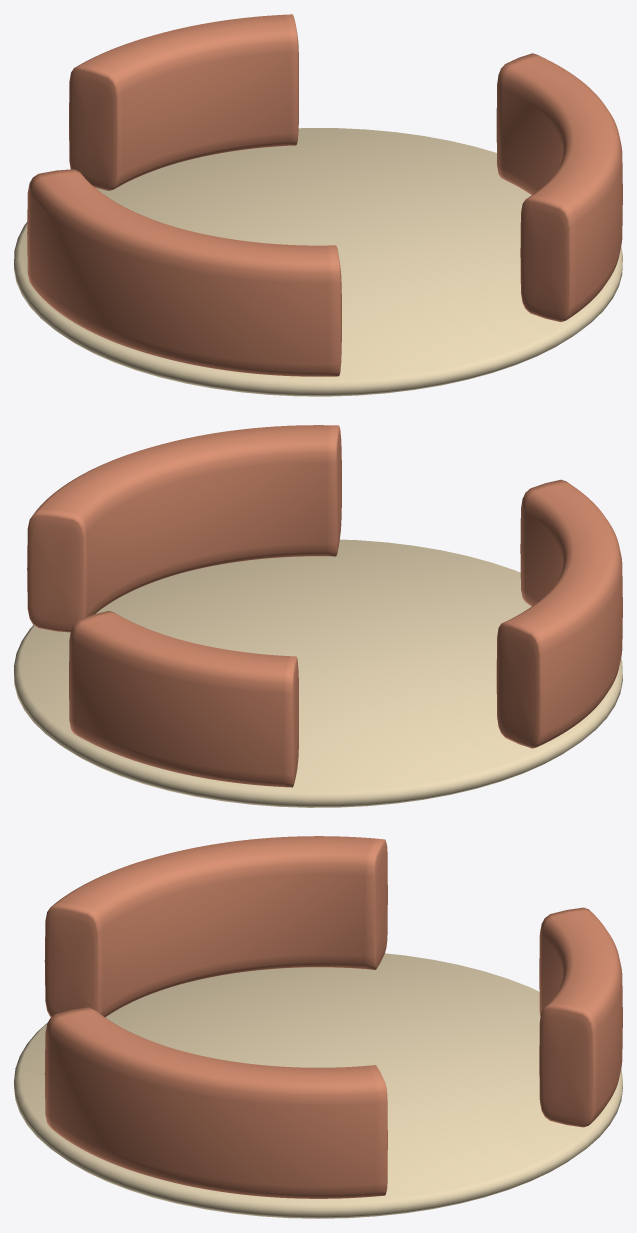
File: building_bowl_v03.glb
The picture shows the model from 3 angles, top to bottom: view 1: azimuth 30°, elevation 25°; view 2: azimuth 150°, elevation 25°; view 3: azimuth 270°, elevation 25°; orthographic projection.
Parts seen in each view (by area): view 1: bowl_floor, bowl_rim_b, bowl_rim_a, bowl_rim_c; view 2: bowl_floor, bowl_rim_c, bowl_rim_a, bowl_rim_b; view 3: bowl_floor, bowl_rim_c, bowl_rim_b, bowl_rim_a.
Part boxes in pixels (<box>): bowl_floor: <box>14,128,622,396</box>; bowl_rim_b: <box>27,169,341,376</box>; bowl_rim_a: <box>69,14,298,190</box>; bowl_rim_c: <box>496,53,622,321</box>; bowl_floor: <box>14,539,622,807</box>; bowl_rim_c: <box>27,425,341,632</box>; bowl_rim_a: <box>69,611,298,787</box>; bowl_rim_b: <box>496,479,622,748</box>; bowl_floor: <box>14,953,622,1218</box>; bowl_rim_c: <box>44,1007,387,1198</box>; bowl_rim_b: <box>44,836,387,1017</box>; bowl_rim_a: <box>539,907,622,1127</box>.
Bounding box in the file's own units: 4 × 0.97 × 4.
